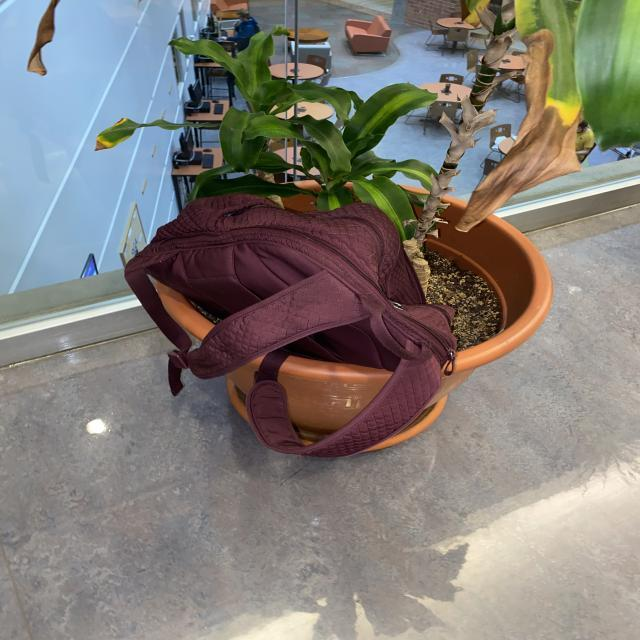Backpacks: (128, 192, 460, 384)
